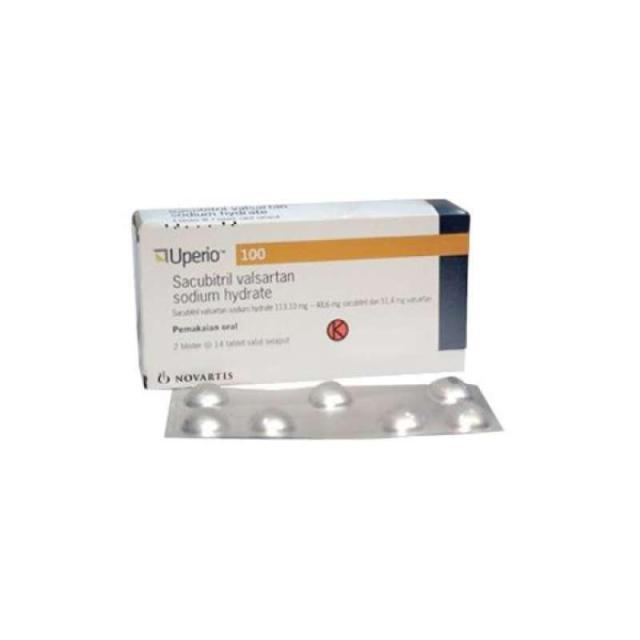drug-name: (168, 245, 272, 268)
